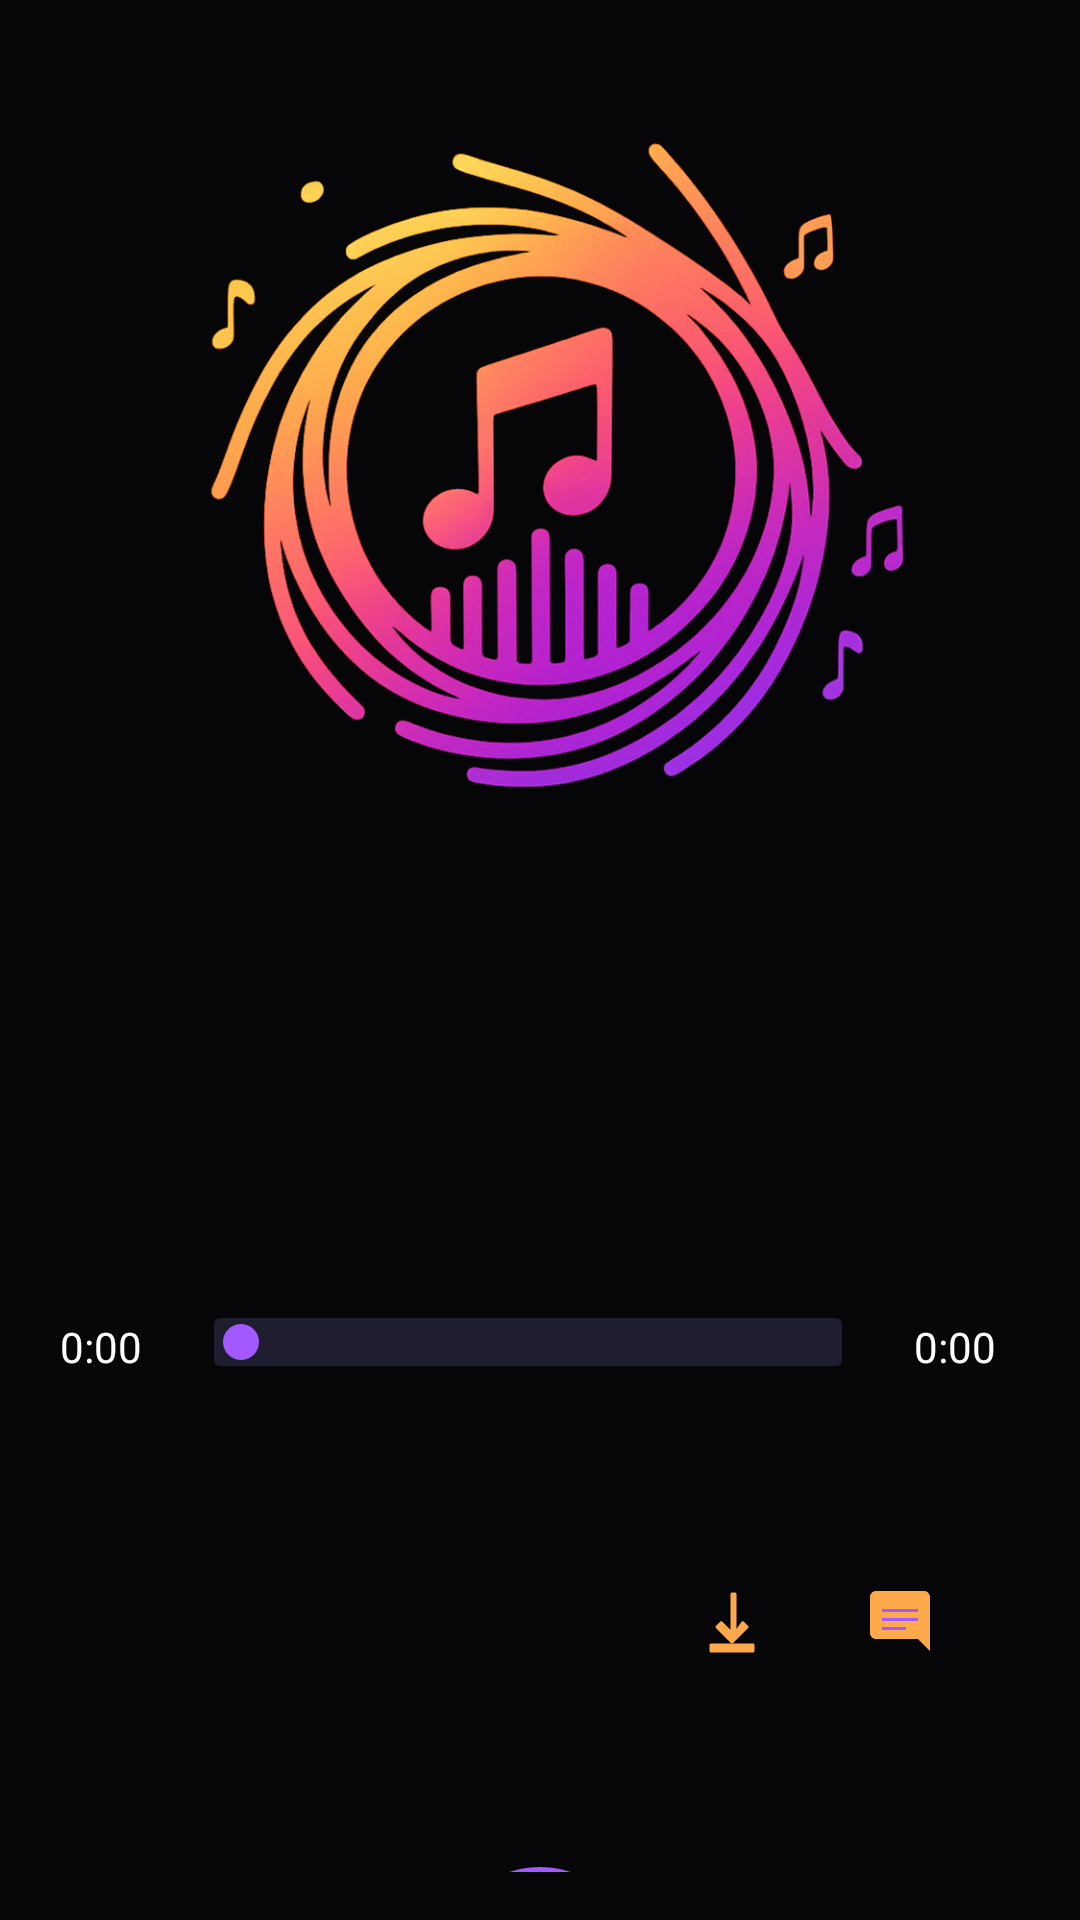

Screen size 1080px×1920px. Icon name, then its box in pixels as [x1=x1, y1=y1, x2=x2, y2=y2]:
comment: [x1=870, y1=1591, x2=930, y2=1651]
download: [x1=709, y1=1592, x2=755, y2=1653]
